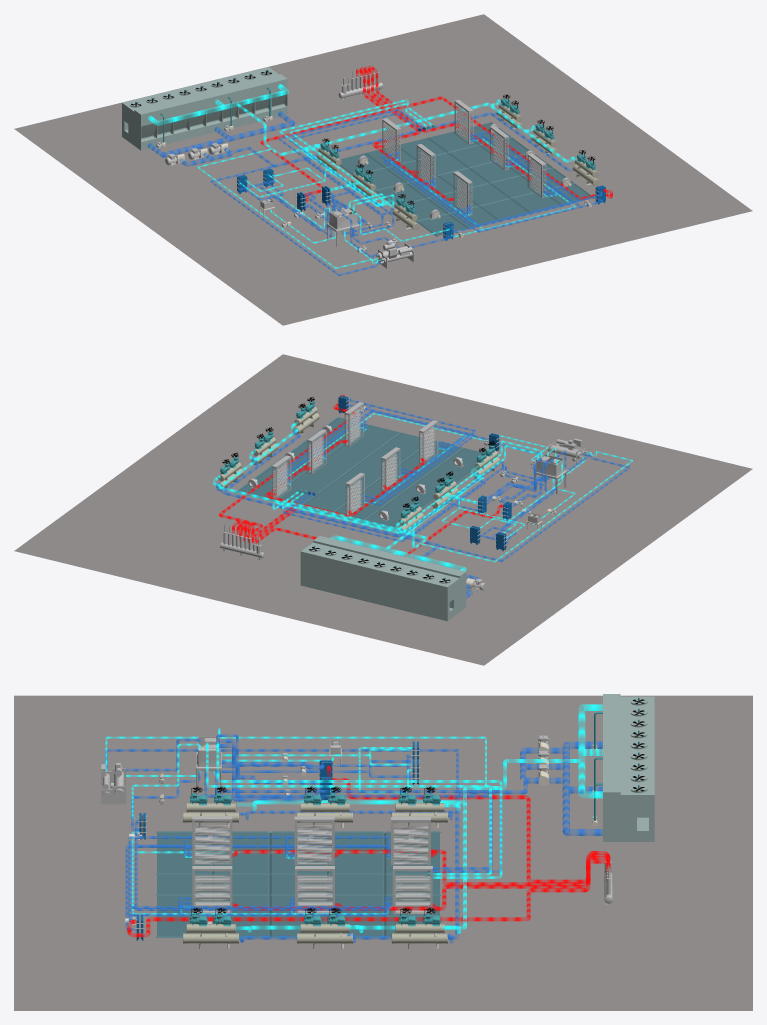
3 renders of one model, top to bottom at view 1: azimuth 30°, elevation 25°; view 2: azimuth 150°, elevation 25°; view 3: azimuth 270°, elevation 25°, orthographic. The views are drawn at different scales.
Visible parts, largest first — view 1: Land_3, FBXASC229FBXASC185FBXASC179FBXASC233FBXASC157FBXASC162FBXAS., FBXASC229FBXASC134FBXASC183FBXASC229FBXASC135FBXASC157FBXAS. (×6), pCube1, 3_GD_Cyan_move.010, 3_GD_Blue_move.005, pCube1 (6), pCube1 (4), pCube1 (2), pCube1 (8), pCube1 (3), pCube1 (1) (+18 smaller); view 2: Land_3, FBXASC229FBXASC185FBXASC179FBXASC233FBXASC157FBXASC162FBXAS., FBXASC229FBXASC134FBXASC183FBXASC229FBXASC135FBXASC157FBXAS. (×6), pCube1, 3_GD_Cyan_move.010, 3_GD_Blue_move.005, pCube1 (3), pCube1 (2), pCube1 (1), pCube1 (6), pCube1 (5), pCube1 (8) (+17 smaller); view 3: Land_3, FBXASC231FBXASC171FBXASC139FBXASC230FBXASC150FBXASC185FBXAS. (×28), FBXASC229FBXASC185FBXASC179FBXASC233FBXASC157FBXASC162FBXAS., FBXASC229FBXASC134FBXASC183FBXASC229FBXASC135FBXASC157FBXAS. (×6), pCube1 (8), 3_GD_Red_move.007, 3_GD_Cyan_move.010, 3_GD_Cyan_move.016, 3_GD_Red_move.001, 3_GD_Red_move, 3_GD_Cyan_move.006, 3_GD_Red_move.004 (+25 smaller).
Boxes of the visible parts, left/top/right/bottom form: Land_3: left=14, top=14, right=752, bottom=325; FBXASC229FBXASC185FBXASC179FBXASC233FBXASC157FBXASC162FBXAS.: left=339, top=122, right=594, bottom=236; FBXASC229FBXASC134FBXASC183FBXASC229FBXASC135FBXASC157FBXAS. (×6): left=316, top=94, right=599, bottom=230; pCube1: left=122, top=99, right=157, bottom=150; 3_GD_Cyan_move.010: left=236, top=102, right=575, bottom=162; 3_GD_Blue_move.005: left=233, top=112, right=572, bottom=171; pCube1 (6): left=220, top=75, right=254, bottom=126; pCube1 (4): left=188, top=83, right=222, bottom=134; pCube1 (2): left=155, top=91, right=189, bottom=142; pCube1 (8): left=253, top=67, right=287, bottom=118; pCube1 (3): left=171, top=87, right=205, bottom=138; pCube1 (1): left=138, top=95, right=173, bottom=144; Land_3: left=14, top=354, right=752, bottom=665; FBXASC229FBXASC185FBXASC179FBXASC233FBXASC157FBXASC162FBXAS.: left=234, top=417, right=481, bottom=531; FBXASC229FBXASC134FBXASC183FBXASC229FBXASC135FBXASC157FBXAS. (×6): left=217, top=397, right=499, bottom=534; pCube1: left=431, top=567, right=466, bottom=621; 3_GD_Cyan_move.010: left=218, top=421, right=428, bottom=549; 3_GD_Blue_move.005: left=221, top=429, right=439, bottom=558; pCube1 (3): left=382, top=555, right=416, bottom=609; pCube1 (2): left=398, top=559, right=433, bottom=613; pCube1 (1): left=415, top=564, right=449, bottom=617; pCube1 (6): left=333, top=544, right=367, bottom=597; pCube1 (5): left=349, top=547, right=384, bottom=601; pCube1 (8): left=300, top=536, right=335, bottom=589; Land_3: left=14, top=695, right=752, bottom=1010; FBXASC231FBXASC171FBXASC139FBXASC230FBXASC150FBXASC185FBXAS. (×28): left=192, top=736, right=430, bottom=913; FBXASC229FBXASC185FBXASC179FBXASC233FBXASC157FBXASC162FBXAS.: left=155, top=831, right=441, bottom=937; FBXASC229FBXASC134FBXASC183FBXASC229FBXASC135FBXASC157FBXAS. (×6): left=183, top=786, right=447, bottom=948; pCube1 (8): left=603, top=781, right=654, bottom=841; 3_GD_Red_move.007: left=127, top=859, right=610, bottom=937; 3_GD_Cyan_move.010: left=236, top=759, right=580, bottom=932; 3_GD_Cyan_move.016: left=216, top=742, right=502, bottom=878; 3_GD_Red_move.001: left=232, top=849, right=610, bottom=886; 3_GD_Red_move: left=327, top=765, right=610, bottom=883; 3_GD_Cyan_move.006: left=206, top=742, right=491, bottom=875; 3_GD_Red_move.004: left=232, top=856, right=610, bottom=910.
Bounding box in the file's own units: 126 × 9.64 × 125.
16 materials, 3 textured.
